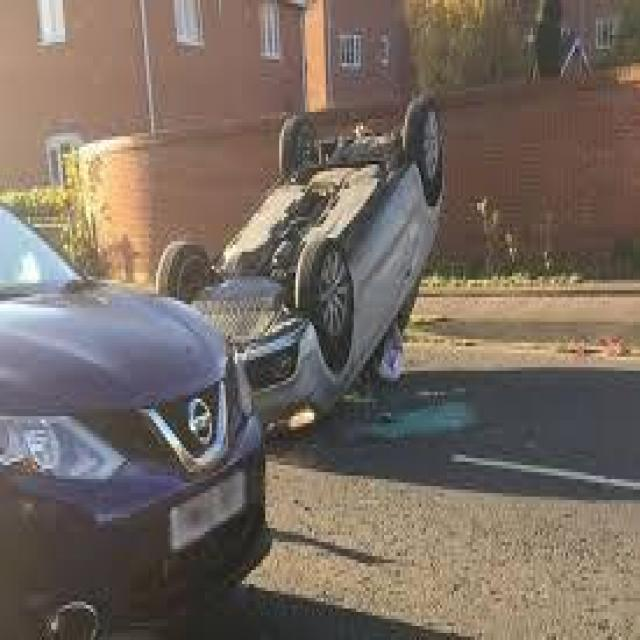accident: (148, 89, 448, 432)
